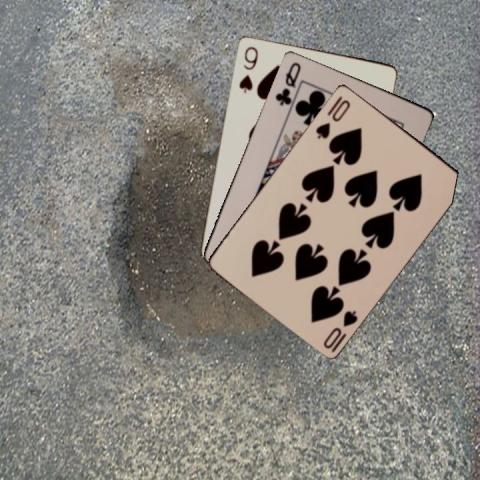10s: (312, 96, 352, 140), (320, 307, 359, 350)
9s: (236, 43, 260, 94)
Qc: (272, 58, 302, 106)
